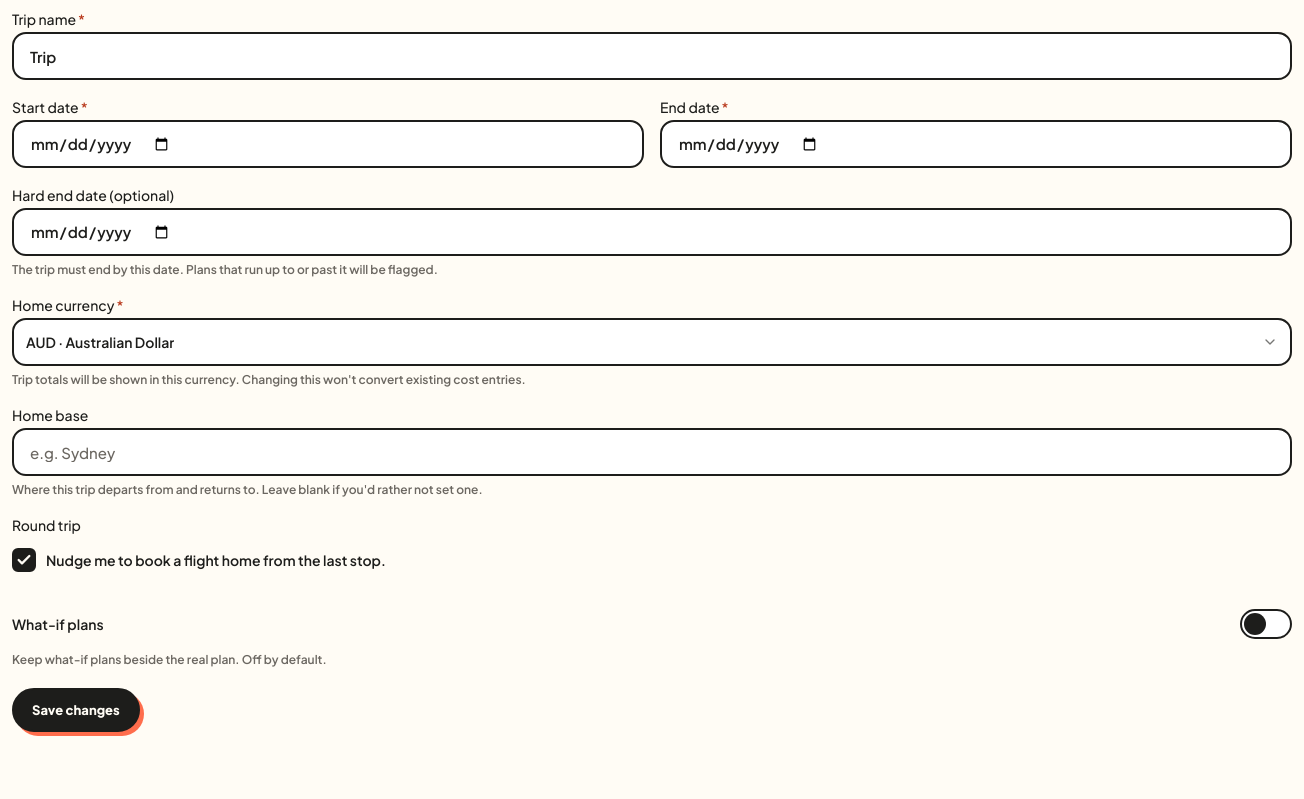
Test: Home base timezone picker › shows no Home base timezone field when the Home base is empty, and reveals it once a Home base is typed
Expected: the dropdown labelled "home base timezone" is not shown
Type "Sydney" into the field labelled "Home base" at (652, 452), box [12, 428, 1292, 476]
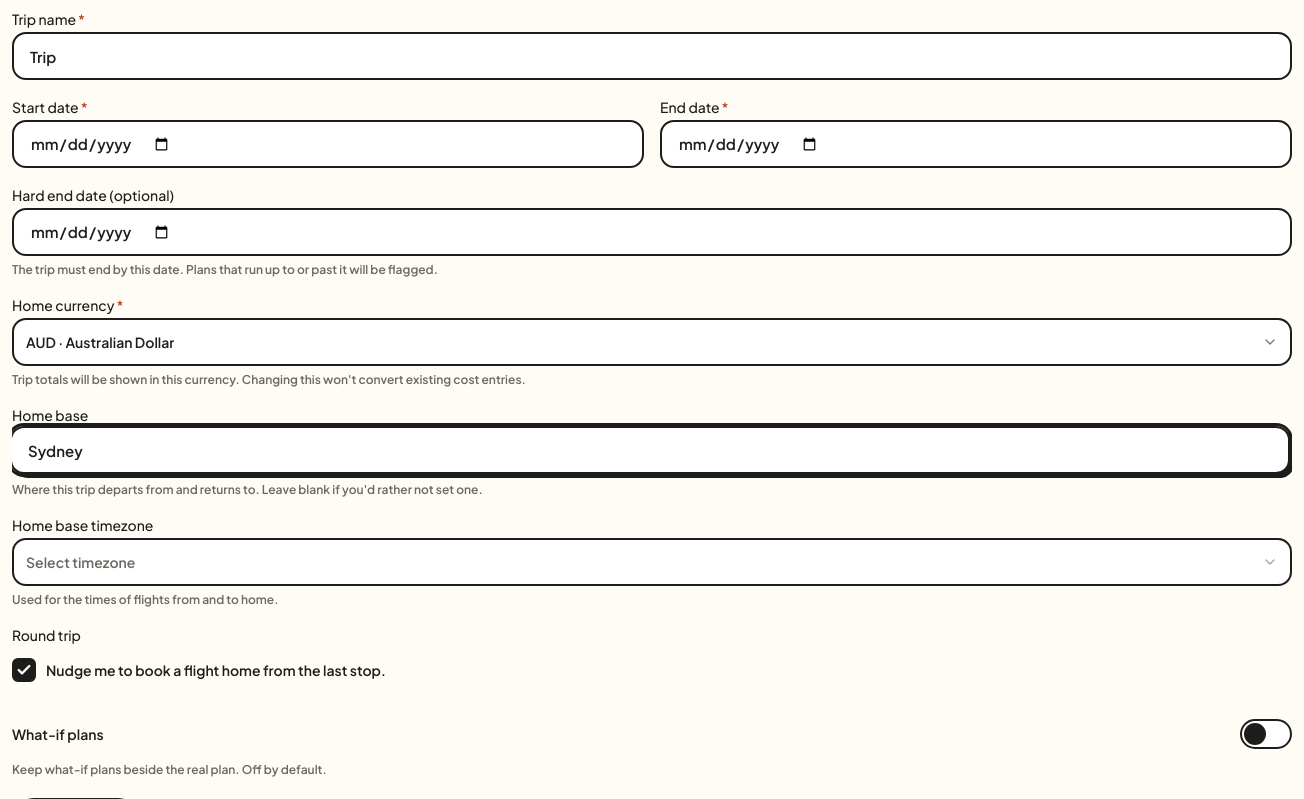
Now the dropdown named "home base timezone" is shown, box [12, 538, 1292, 586]
